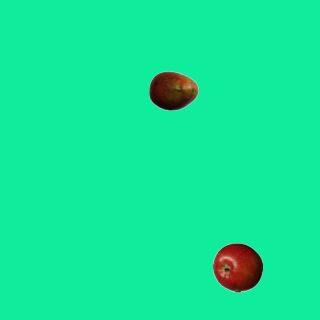Apple Braeburn: (212, 242, 262, 292)
Mango Red: (148, 65, 198, 115)
